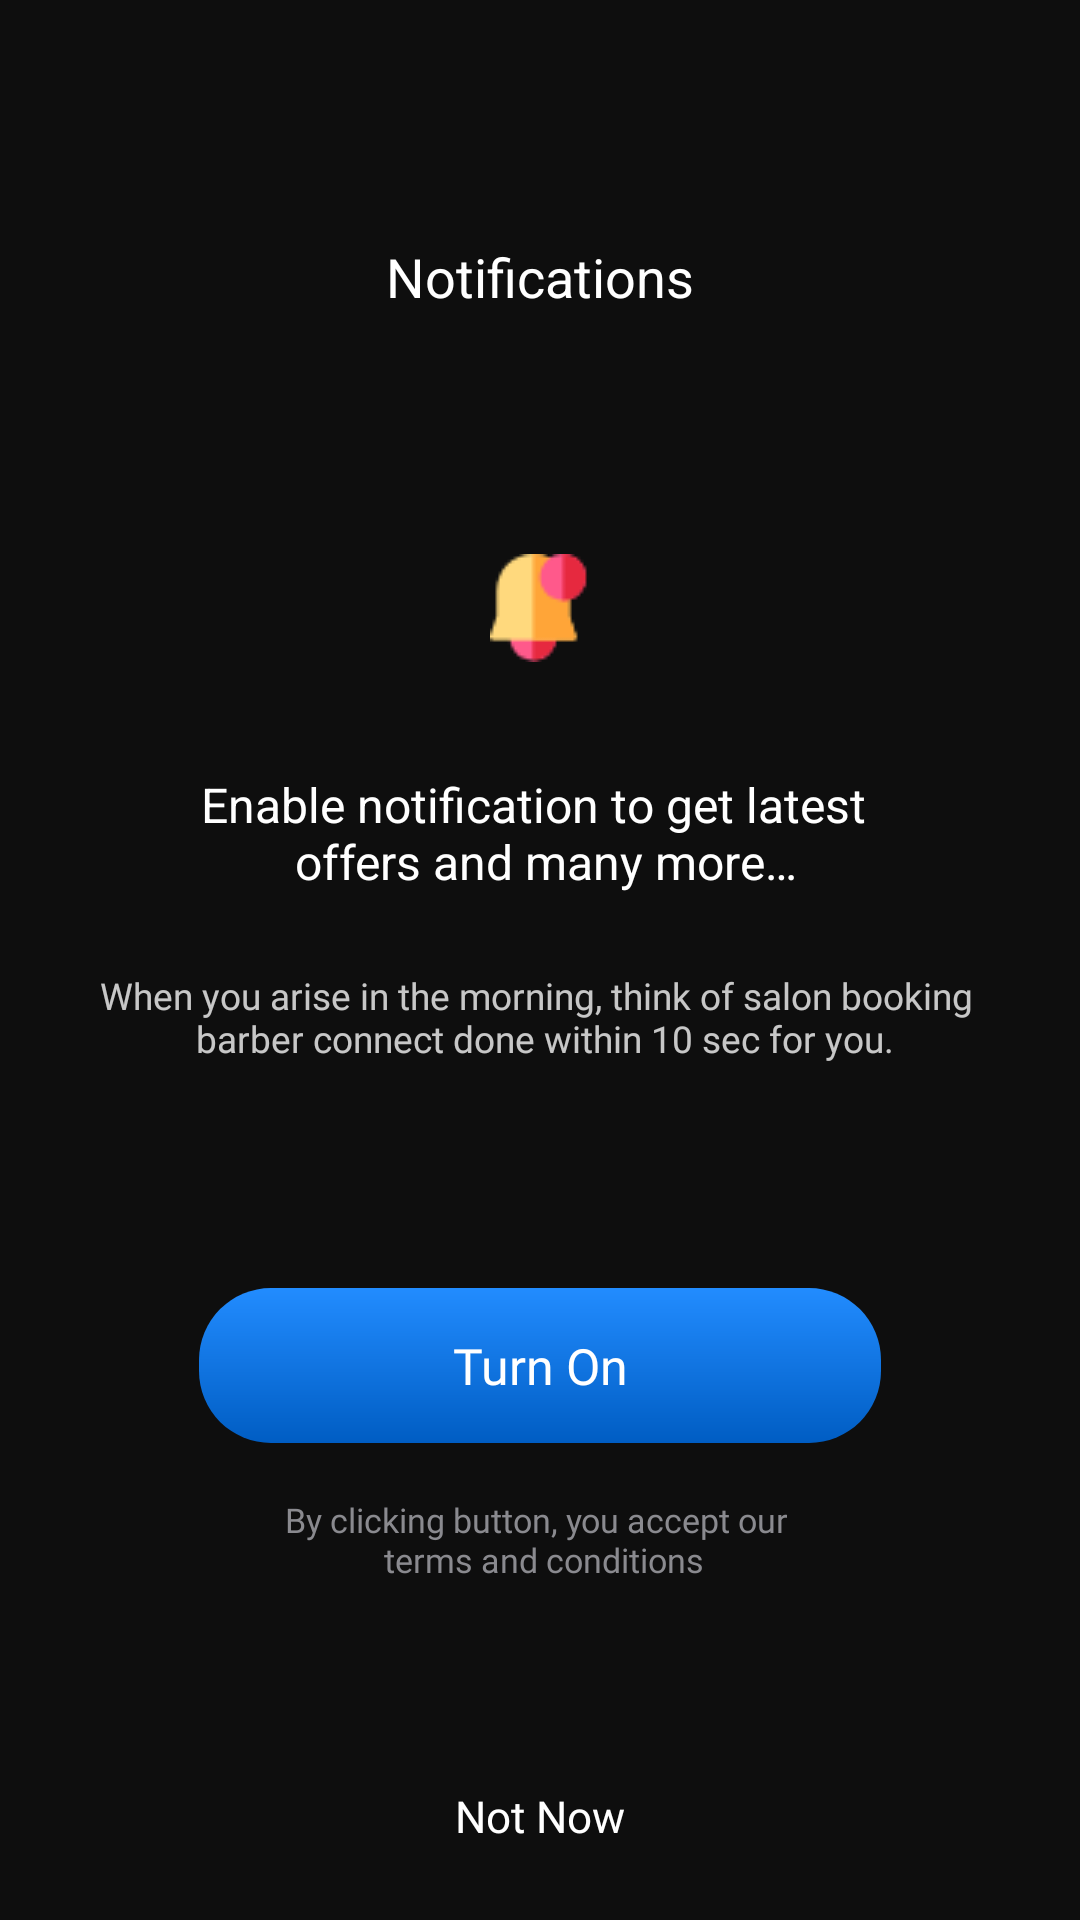

Screen size 1080 × 1920. Icon name, then its box in pixels as (x1, y1, x2, y2):
notificationicon: (490, 554, 587, 662)
